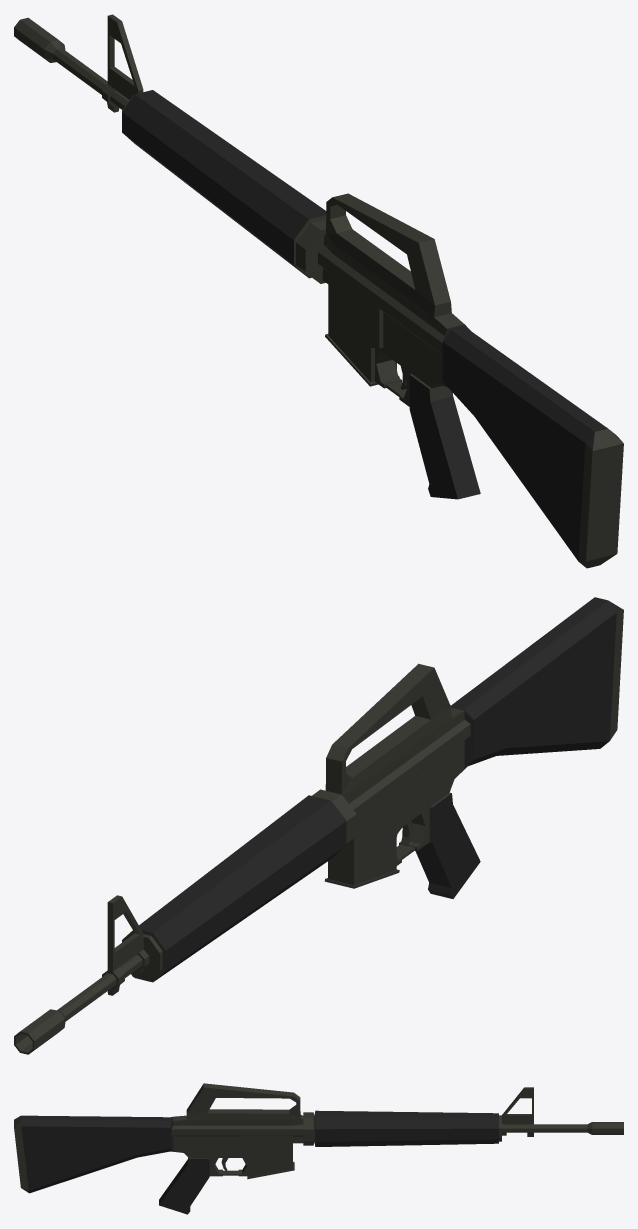
3 renders of one model, top to bottom at view 1: azimuth 30°, elevation 25°; view 2: azimuth 150°, elevation 25°; view 3: azimuth 270°, elevation 25°, orthographic. The views are drawn at different scales.
Visible parts, largest first — view 1: m16; view 2: m16; view 3: m16.
Part boxes in pixels (x1,y1,x2,y2): m16: (14,14,623,568); m16: (14,597,623,1054); m16: (14,1083,623,1214).
Size of the model in its own units: 0.051 by 0.2263 by 0.9899.
1 material, 1 textured.
